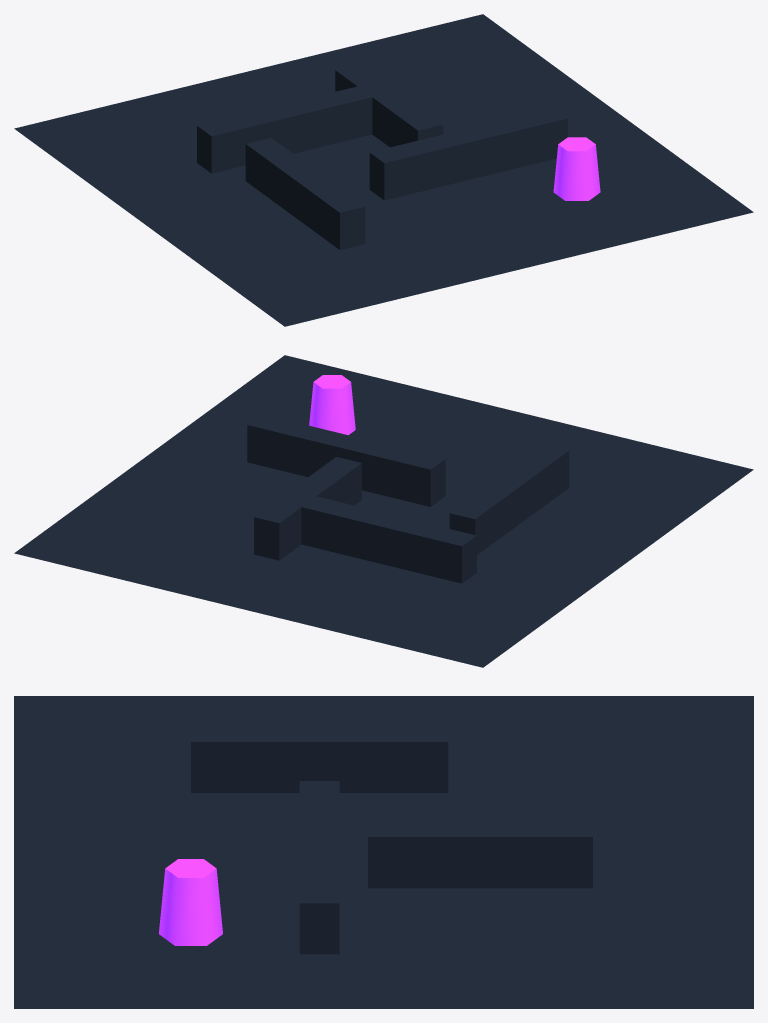
File: dng_05.glb
3 views of the same model, one above another, from view 1: azimuth 30°, elevation 25°; view 2: azimuth 150°, elevation 25°; view 3: azimuth 270°, elevation 25° (orthographic). The views are drawn at different scales.
Visible parts, largest first — view 1: scenario_base_floor, DNG_05; view 2: scenario_base_floor, DNG_05; view 3: scenario_base_floor, DNG_05.
Part boxes in pixels (x1,y1,x2,y2): scenario_base_floor: (14, 14, 753, 326); DNG_05: (197, 64, 600, 249); scenario_base_floor: (14, 355, 753, 667); DNG_05: (247, 375, 569, 583); scenario_base_floor: (14, 696, 753, 1008); DNG_05: (159, 713, 592, 954).
Size of the model in its own units: 46 by 4.5 by 46.
